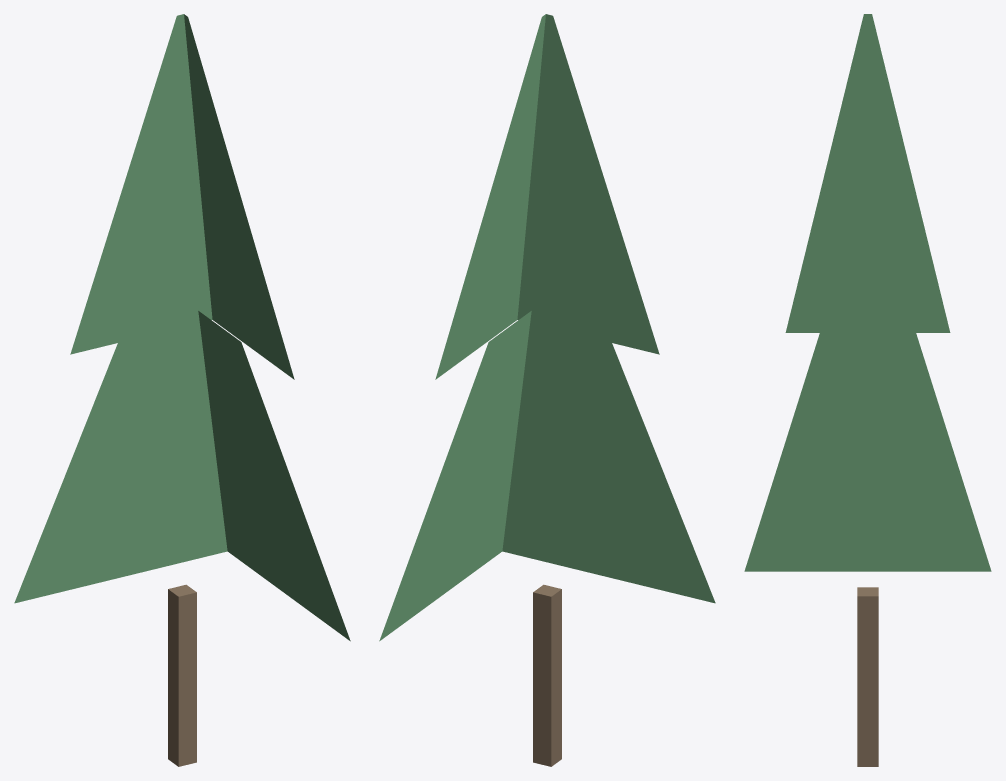
File: tree-fir.glb
3 views of the same model, side by side, from view 1: azimuth 30°, elevation 25°; view 2: azimuth 150°, elevation 25°; view 3: azimuth 270°, elevation 25° (orthographic).
Parts seen in each view (by area): view 1: canopy, trunk; view 2: canopy, trunk; view 3: canopy, trunk.
Part boxes in pixels (box(x1,y1,x2,y2)): canopy: box(14, 14, 350, 641); trunk: box(168, 584, 196, 766); canopy: box(379, 14, 715, 641); trunk: box(533, 584, 561, 766); canopy: box(744, 14, 991, 571); trunk: box(857, 587, 878, 766).
Size of the model in its own units: 4.2 by 14 by 4.2.
